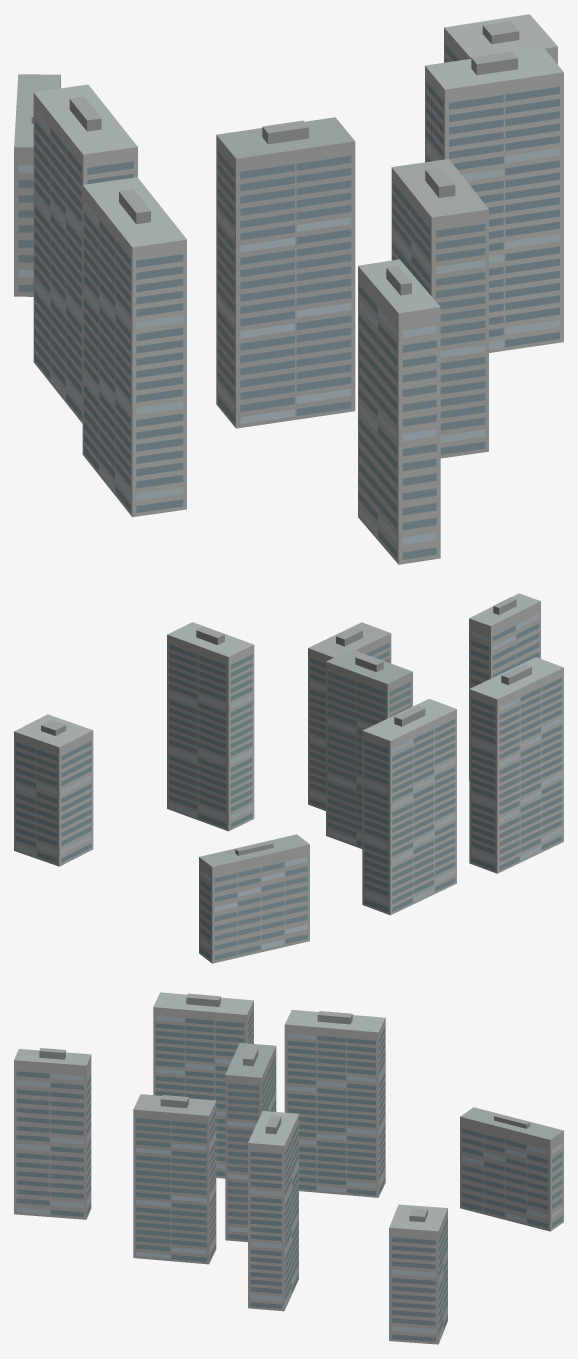
File: apt-a15010202.glb
3 renders of one model, top to bottom at view 1: azimuth 30°, elevation 25°; view 2: azimuth 150°, elevation 25°; view 3: azimuth 270°, elevation 25°, orthographic. The views are drawn at different scales.
Parts seen in each view (by area): view 1: apt-a15010202; view 2: apt-a15010202; view 3: apt-a15010202.
Boxes of the visible parts, <box> form: apt-a15010202: <box>14,14,563,564</box>; apt-a15010202: <box>14,593,563,963</box>; apt-a15010202: <box>14,992,563,1344</box>.
Bounding box in the file's own units: 142 × 61 × 177.
